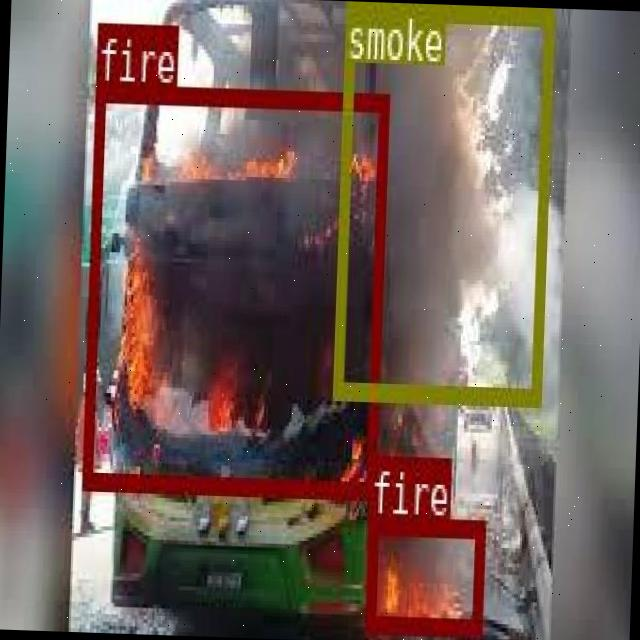fire: (81, 81, 387, 495), (364, 513, 484, 631)
smoke: (332, 1, 554, 400)
